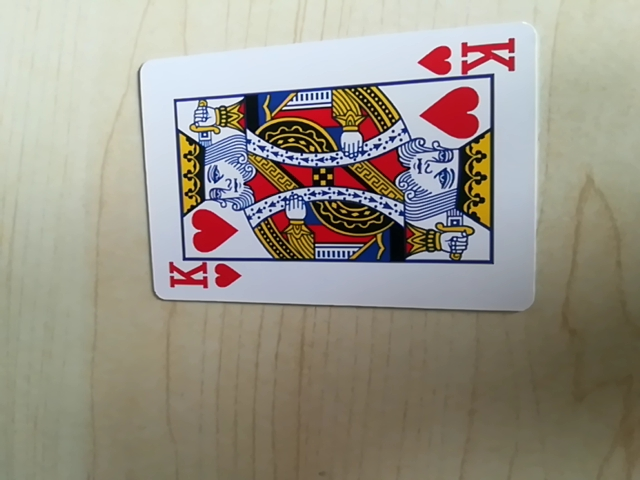hx k: (419, 32, 522, 83), (163, 257, 241, 298)
